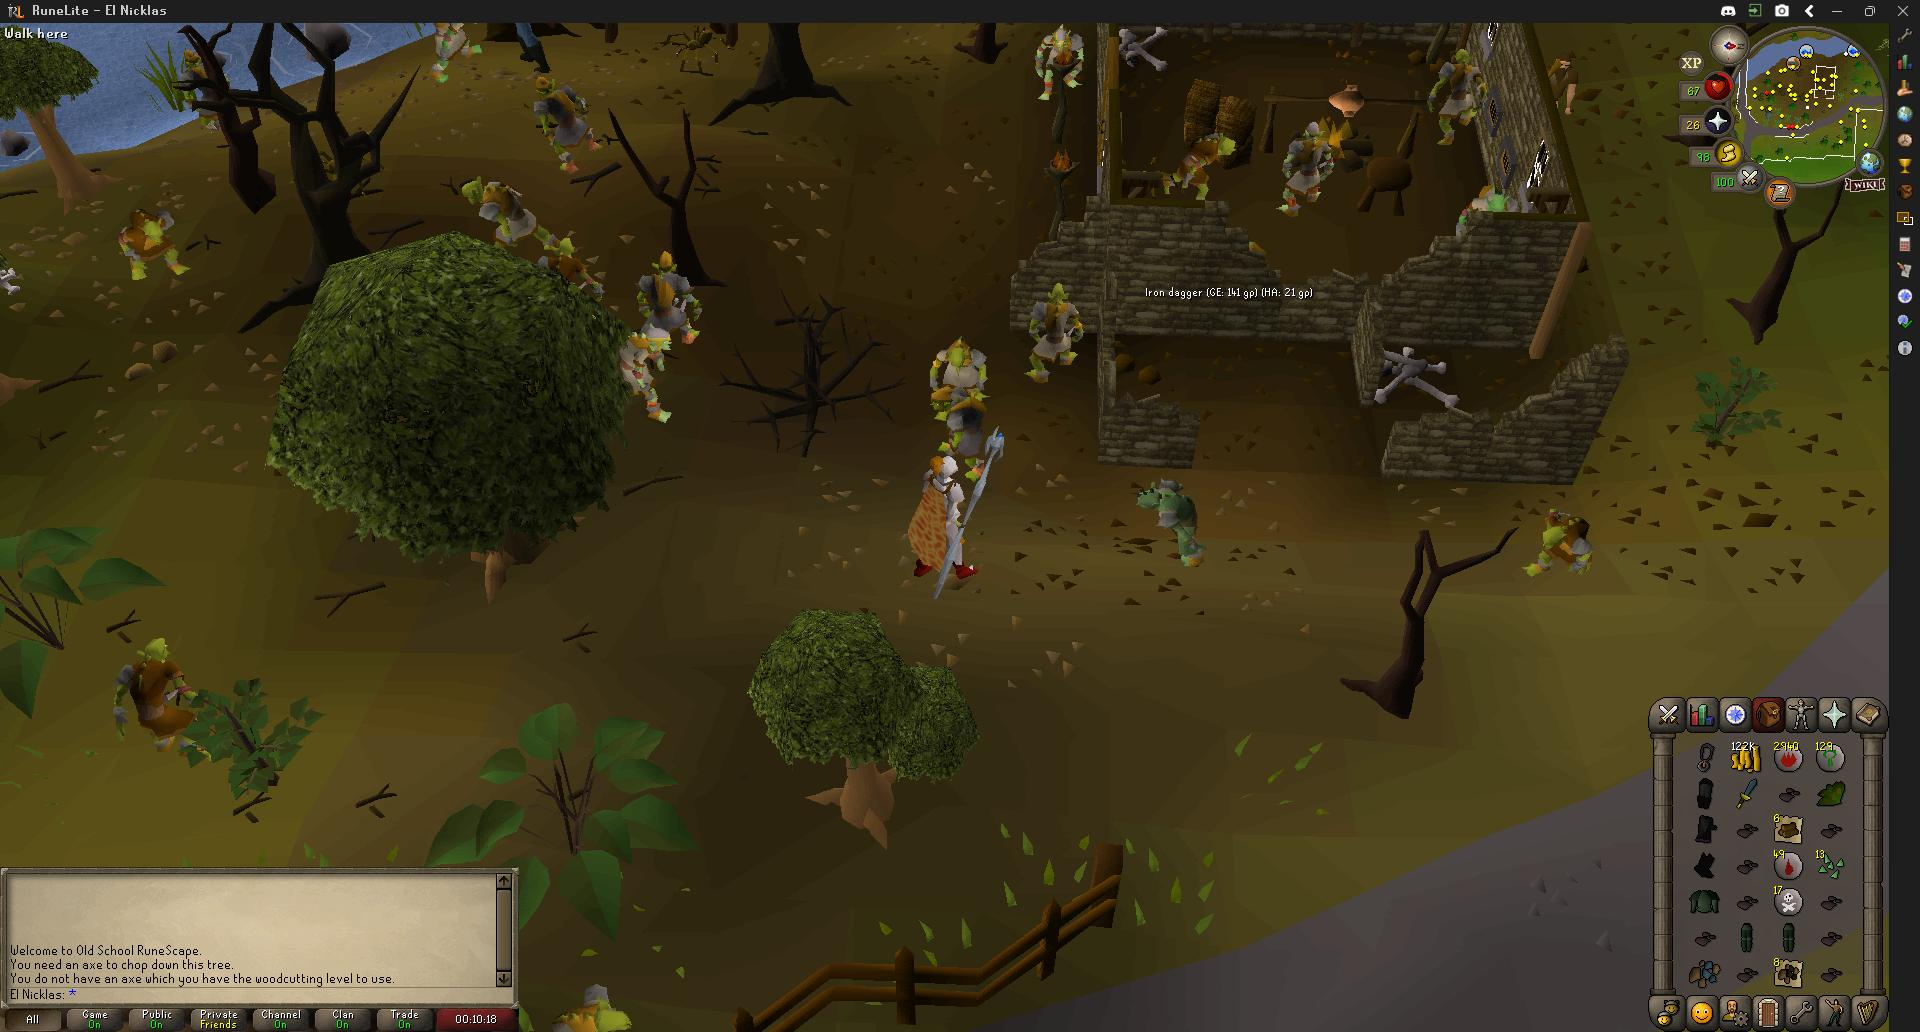Player: (906, 449, 971, 582)
goblin: (113, 637, 199, 741), (532, 75, 603, 175), (1134, 476, 1206, 566), (1159, 129, 1235, 206), (637, 251, 698, 346), (116, 204, 190, 281), (1370, 343, 1456, 409), (1427, 49, 1484, 146), (1032, 279, 1087, 379), (463, 175, 537, 248), (927, 340, 983, 435), (1280, 122, 1337, 214), (1521, 507, 1592, 577), (535, 236, 605, 302), (619, 337, 670, 422), (180, 46, 228, 134), (1033, 24, 1080, 104), (551, 982, 631, 1029), (1464, 181, 1525, 234), (429, 21, 473, 82)
